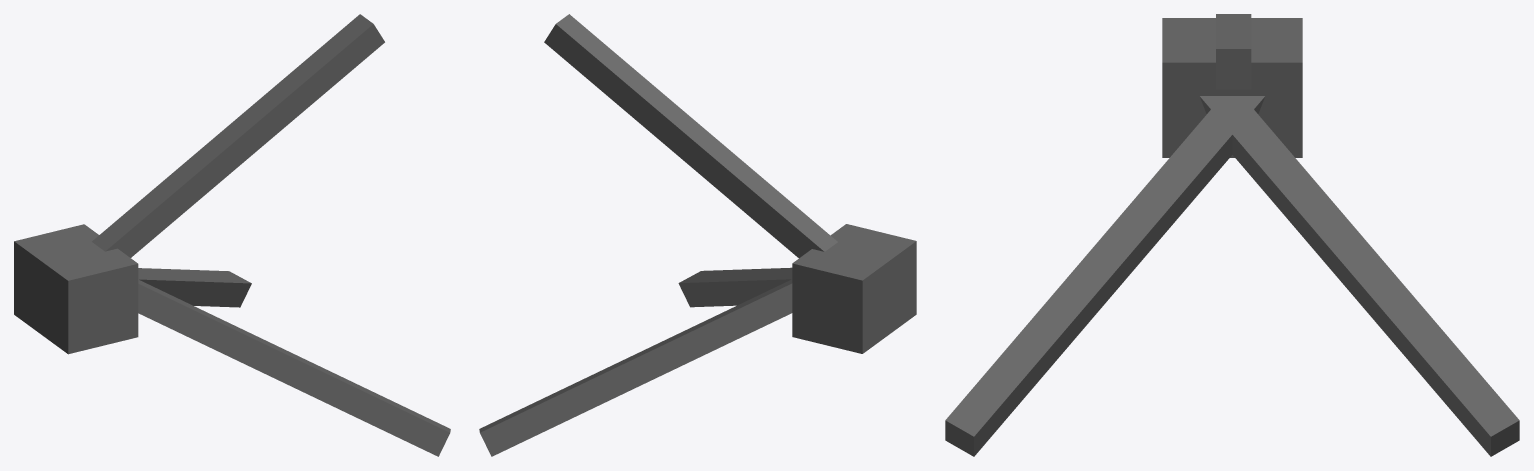
File: turn_stile_main_0.obj
3 views of the same model, side by side, from view 1: azimuth 30°, elevation 25°; view 2: azimuth 150°, elevation 25°; view 3: azimuth 270°, elevation 25° (orthographic). The views are drawn at different scales.
Visible parts, largest first — view 1: rotation_block, upward_bar, backward_bar, forward_bar; view 2: rotation_block, upward_bar, forward_bar, backward_bar; view 3: backward_bar, forward_bar, upward_bar, rotation_block.
Part boxes in pixels (bbox=[...]): rotation_block: bbox=[92, 14, 384, 257]; upward_bar: bbox=[14, 224, 138, 354]; backward_bar: bbox=[138, 279, 450, 456]; forward_bar: bbox=[138, 268, 251, 307]; rotation_block: bbox=[544, 14, 837, 257]; upward_bar: bbox=[792, 224, 916, 353]; forward_bar: bbox=[479, 279, 792, 456]; backward_bar: bbox=[678, 267, 792, 307]; backward_bar: bbox=[945, 96, 1265, 456]; forward_bar: bbox=[1199, 96, 1519, 456]; upward_bar: bbox=[1162, 18, 1302, 157]; rotation_block: bbox=[1216, 14, 1251, 89].
Bounding box in the file's own units: 0.9024 × 0.9043 × 1.02.
